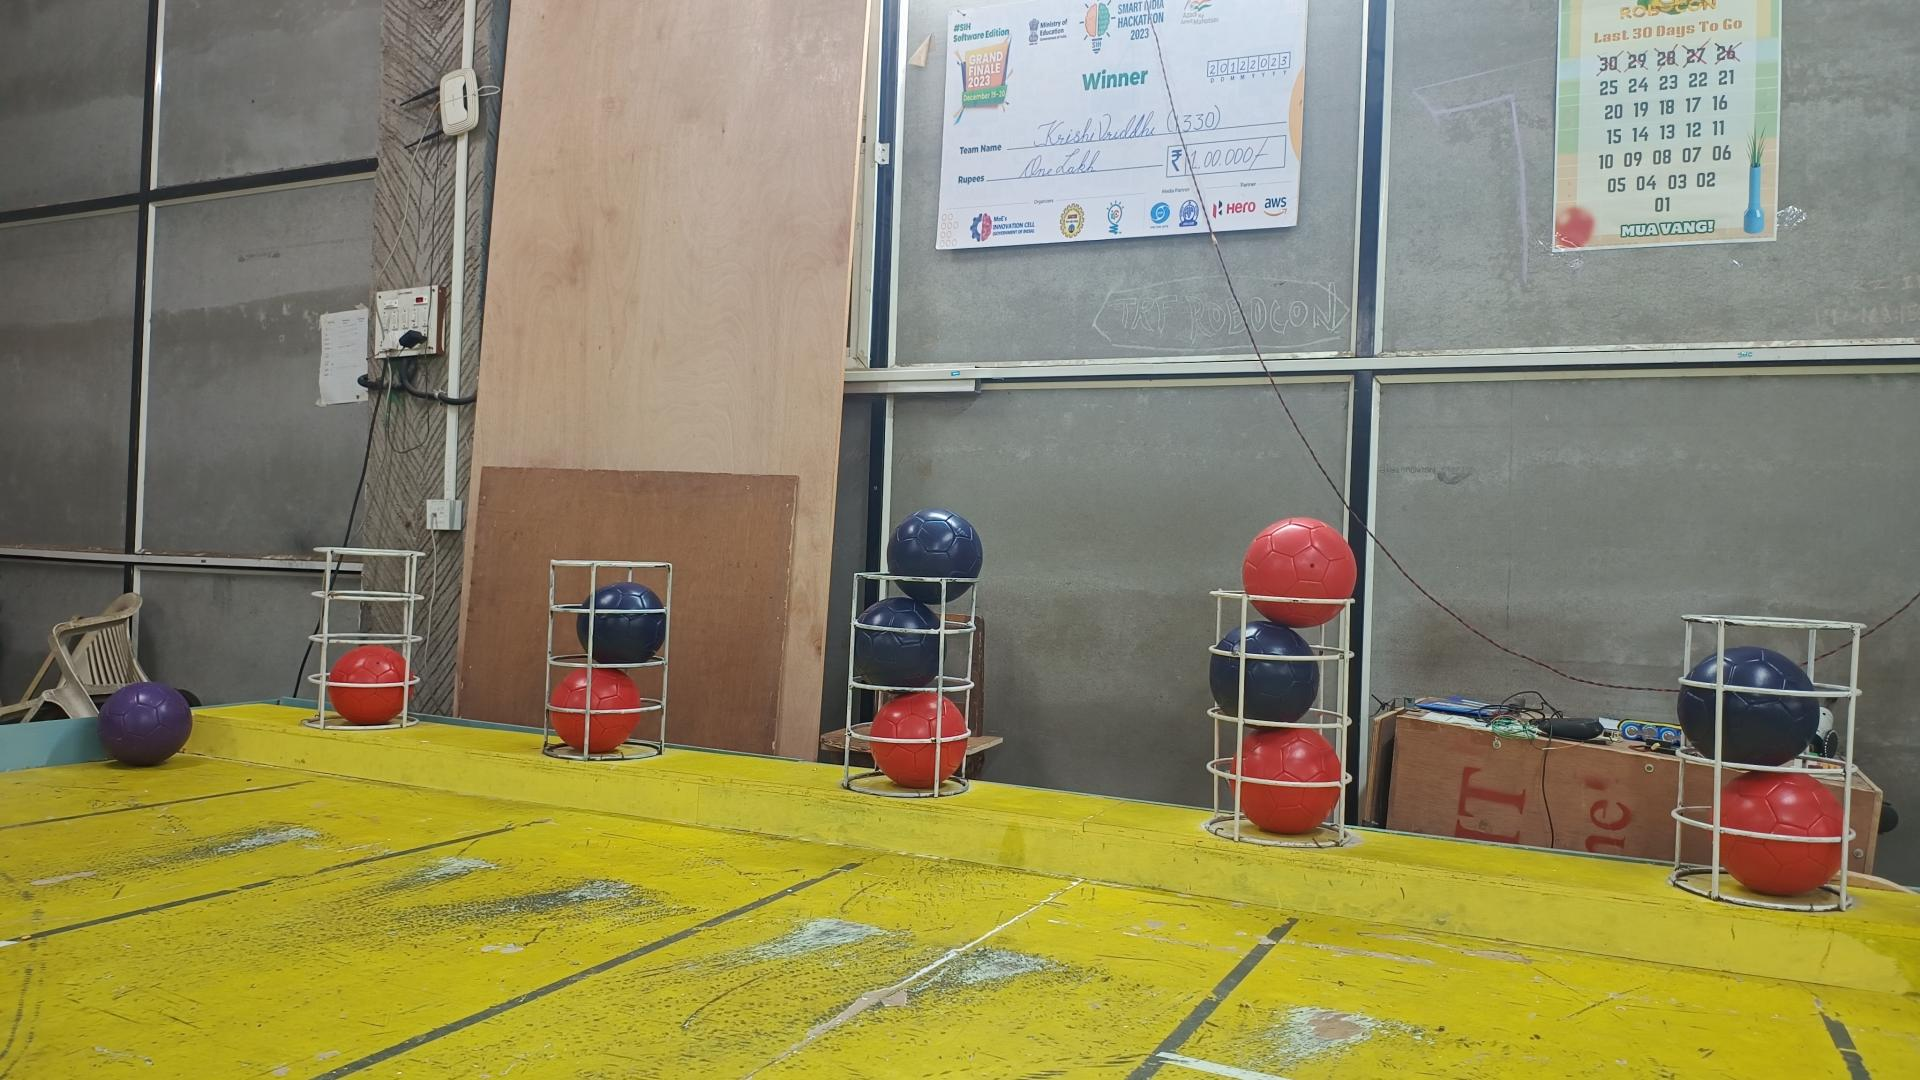dhoka: (1676, 647, 1818, 767), (1209, 622, 1319, 724), (886, 509, 984, 607), (853, 595, 940, 686), (578, 580, 667, 663)
laale: (1716, 773, 1842, 897), (1245, 518, 1357, 630), (1230, 728, 1344, 837), (870, 691, 972, 789), (550, 669, 640, 754), (327, 642, 418, 725)
